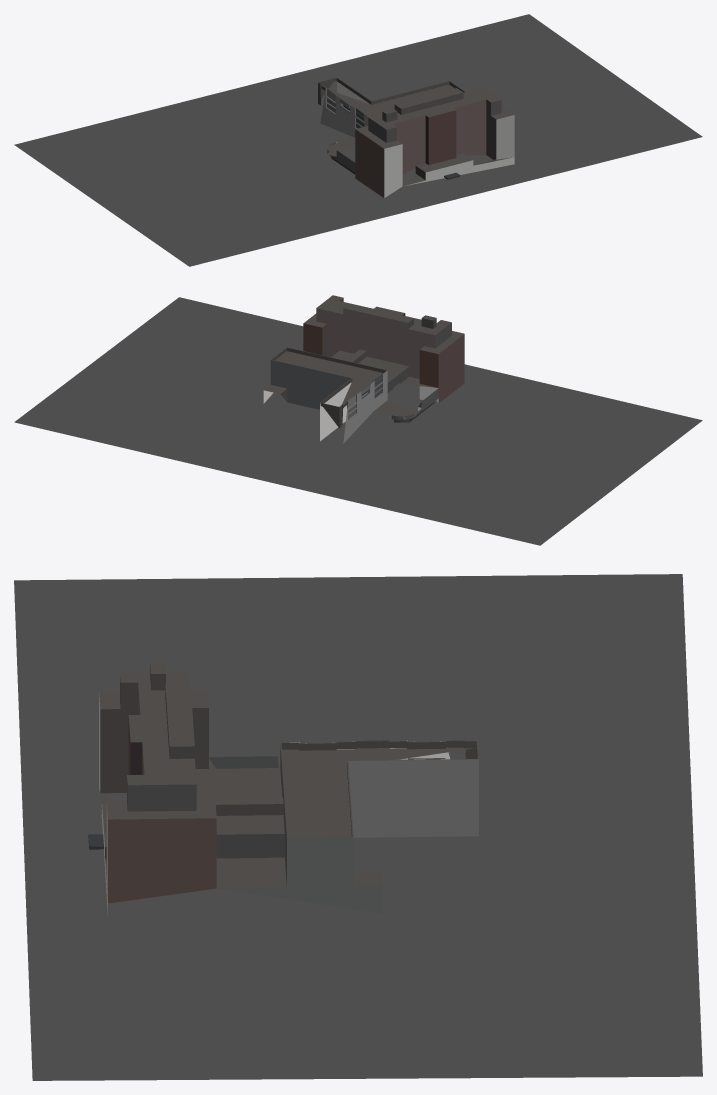
File: sheraton-read-house.glb
3 views of the same model, one above another, from view 1: azimuth 30°, elevation 25°; view 2: azimuth 150°, elevation 25°; view 3: azimuth 270°, elevation 25° (orthographic). The views are drawn at different scales.
Parts seen in each view (by area): view 1: LOD0; view 2: LOD0; view 3: LOD0.
Boxes of the visible parts, x1=… form: LOD0: x1=14, y1=14, x2=702, y2=266; LOD0: x1=14, y1=295, x2=702, y2=545; LOD0: x1=14, y1=574, x2=702, y2=1080.
Size of what is drawn, in the model's own units: 289 by 37.41 by 166.
3 materials, 3 textured.
